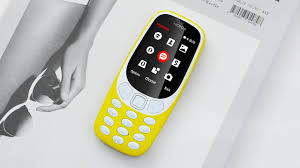nokia: (94, 12, 207, 158)
